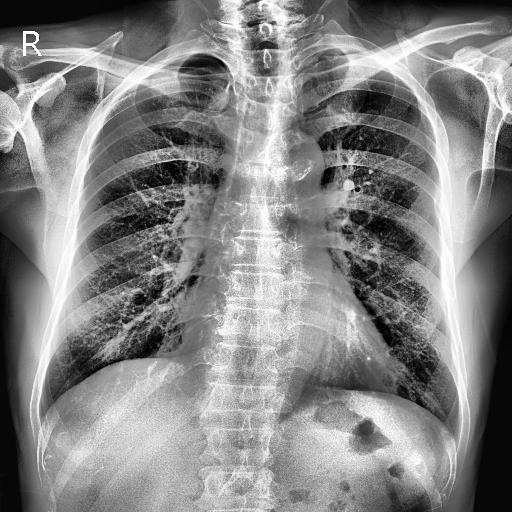0- Aortic enlargement: (257, 130, 322, 186), (268, 134, 325, 192), (272, 130, 324, 181)
